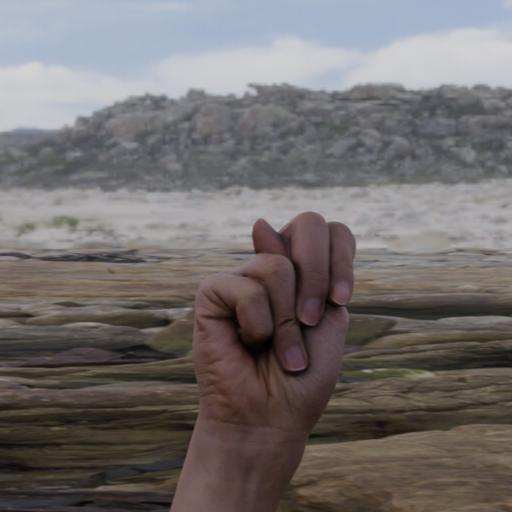N: (188, 209, 360, 433)
